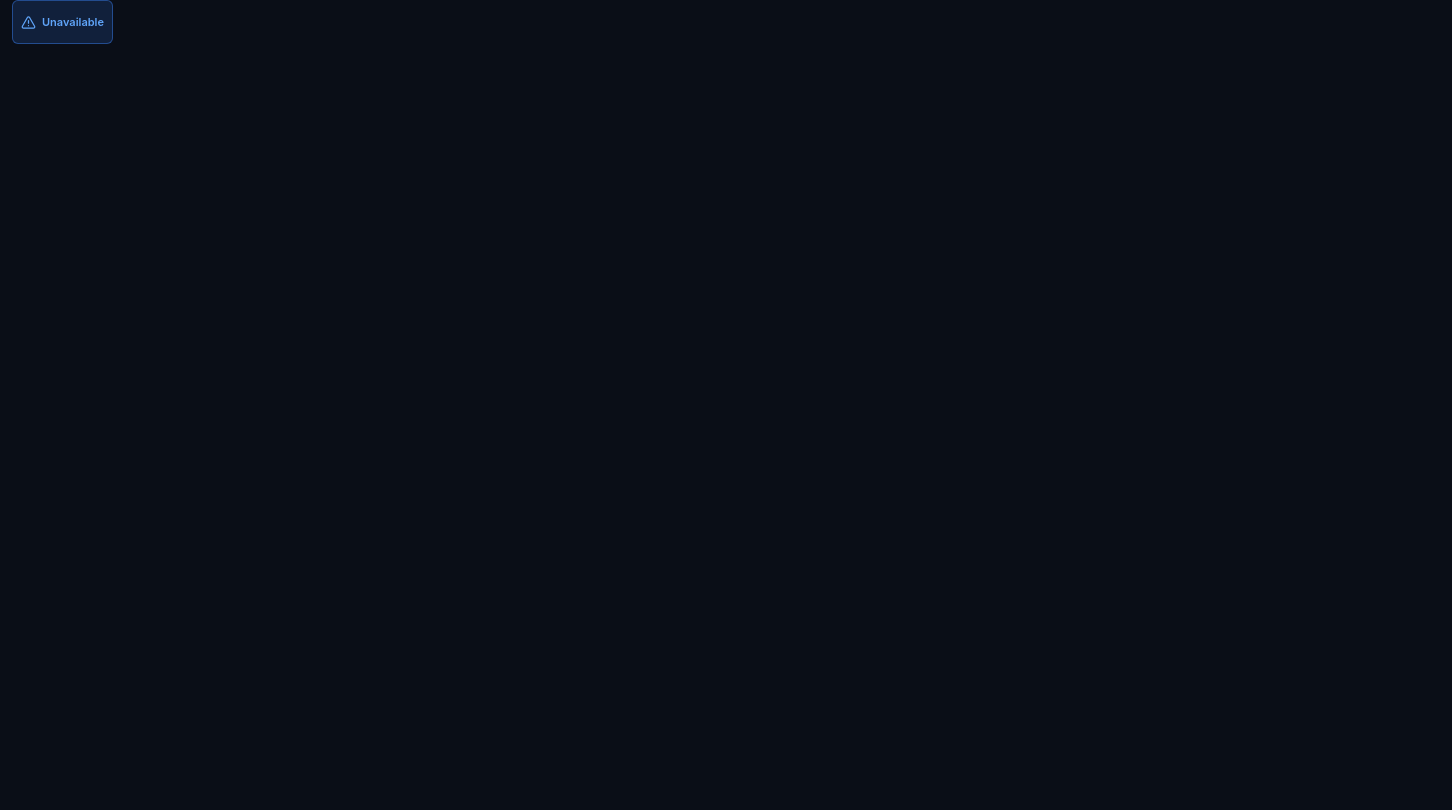
DashboardHealth › retains last reported warnings when a refresh fails without claiming current status is known
Click the button with aria-label "Workspace health:". click: [62, 22]
box: [12,0,113,44]
(page scrolled)
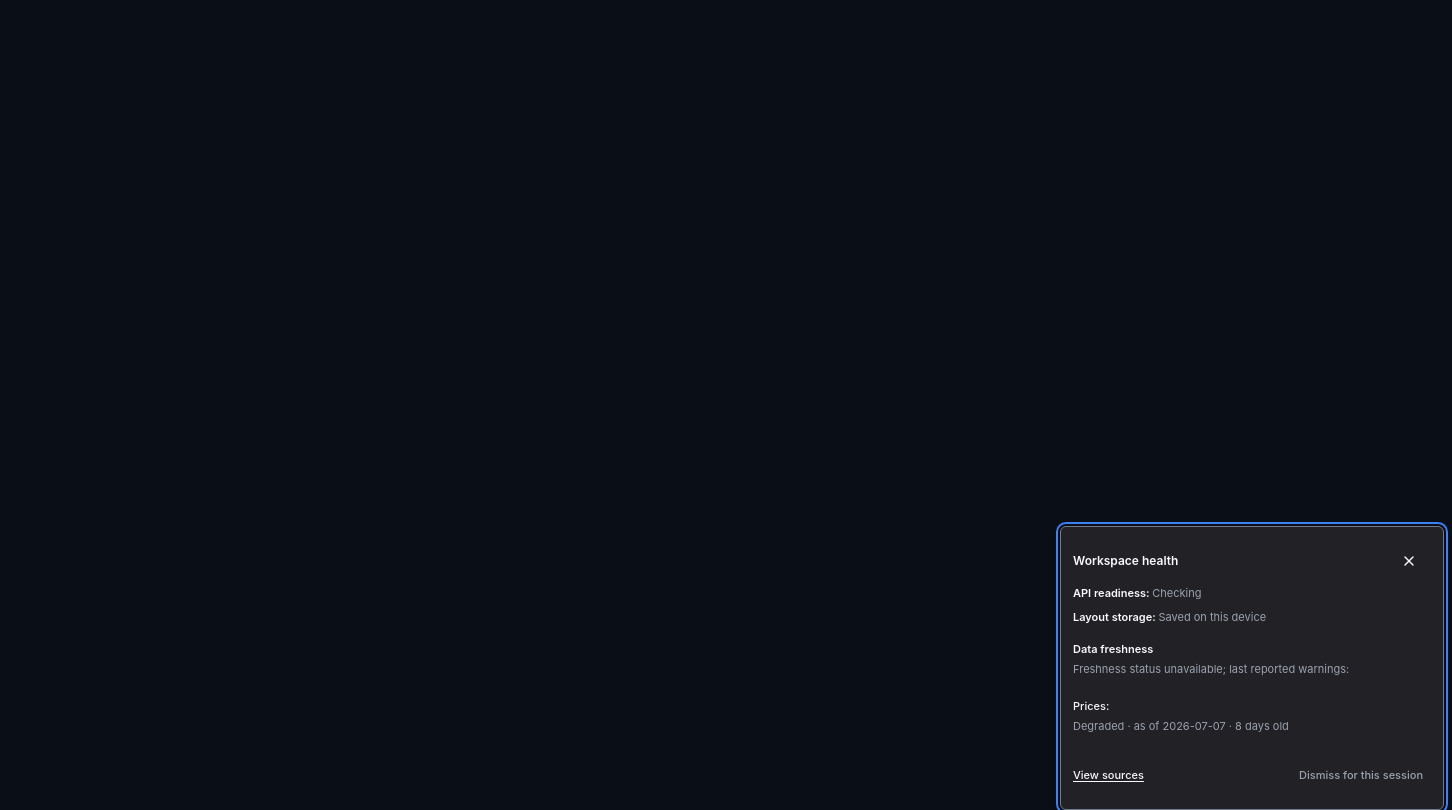
Result: the text "Freshness status unavailable; last reported warnings:" is shown at [1073,662,1349,676]
Result: the text "as of 2026-07-07 · 8 days old" is shown at [1134,719,1289,733]
